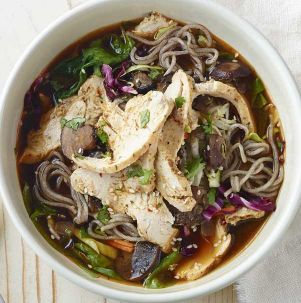Soba: (24, 35, 279, 266)
